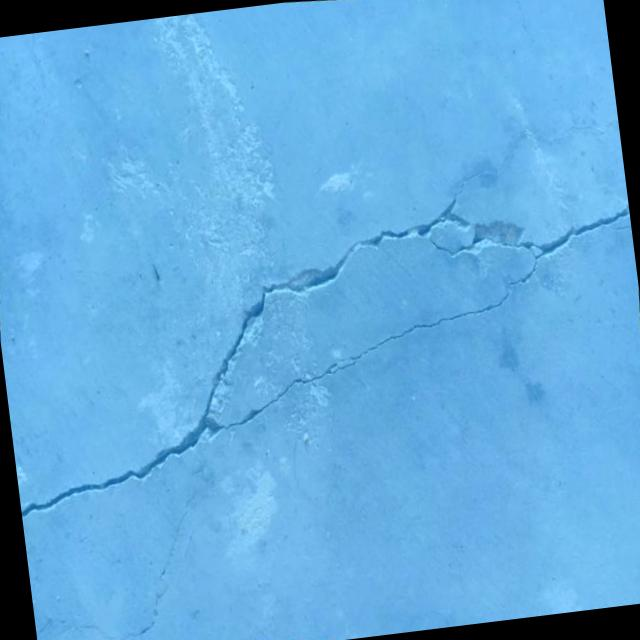crack: (0, 57, 640, 563), (138, 454, 223, 608), (51, 601, 162, 640), (34, 611, 72, 640), (616, 222, 632, 232)
